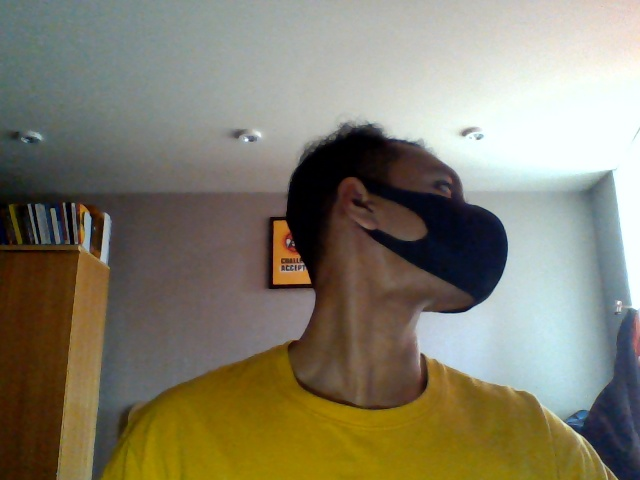mask: (383, 201, 508, 318)
